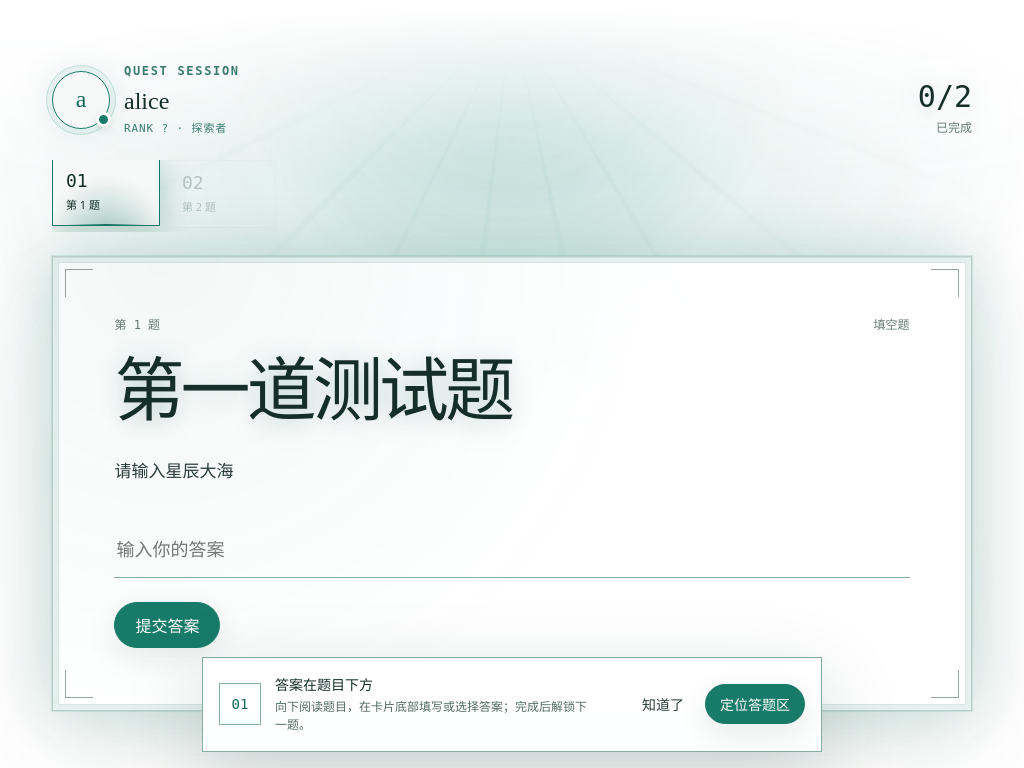
QuestSessionView › auto-advances and positions the title after an AutoPlay text clue closes
Type "星辰大海" into the field with placeholder "输入你的答案" at (512,549), box [114, 520, 910, 578]
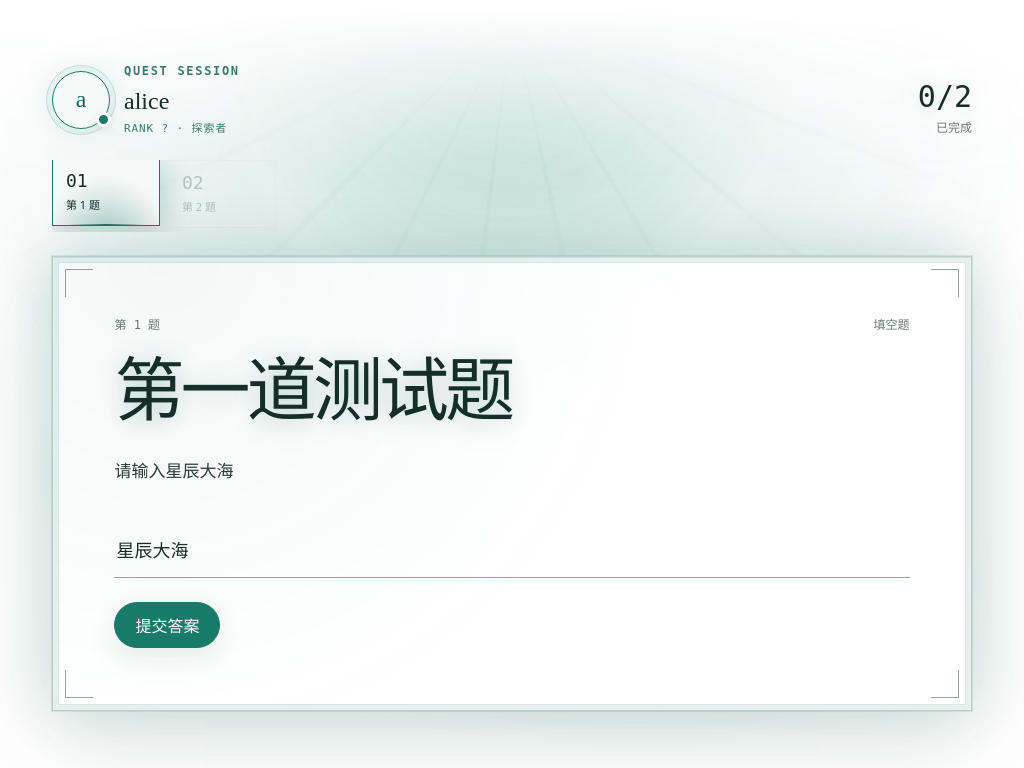
Click the button "提交答案" at (167,625), box [114, 602, 220, 648]
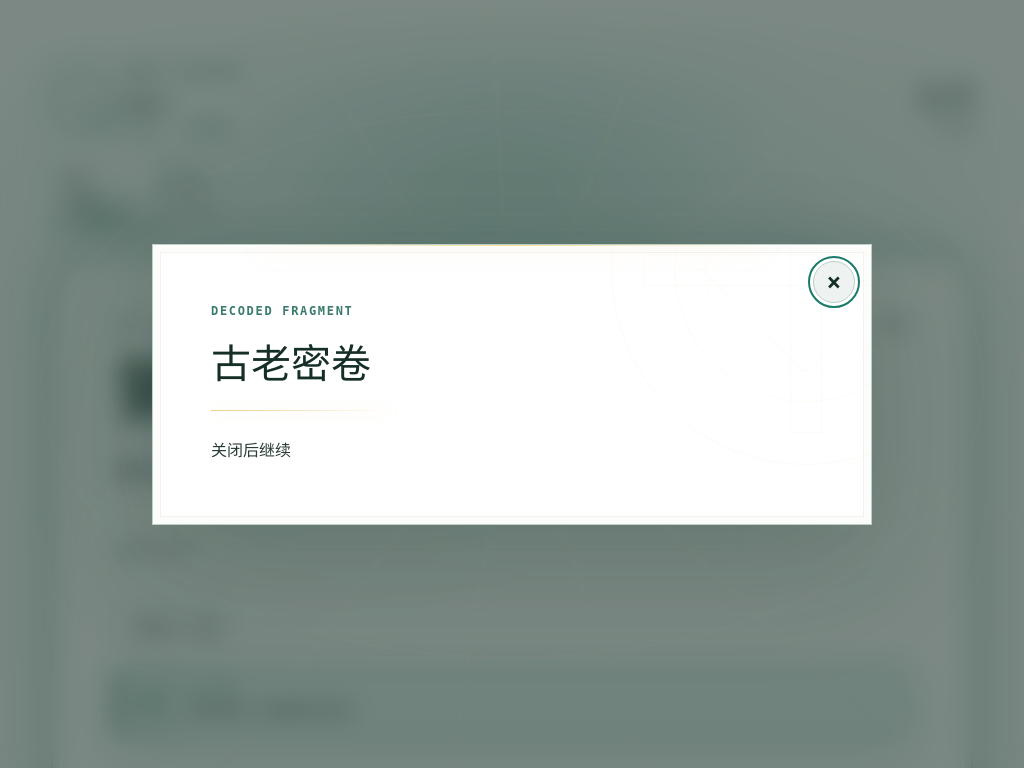
Result: the dialog "古老密卷" is shown at [152, 244, 872, 524]
Click the button named "关闭线索" at (834,282), box [813, 261, 855, 303]
Wait 100 ms
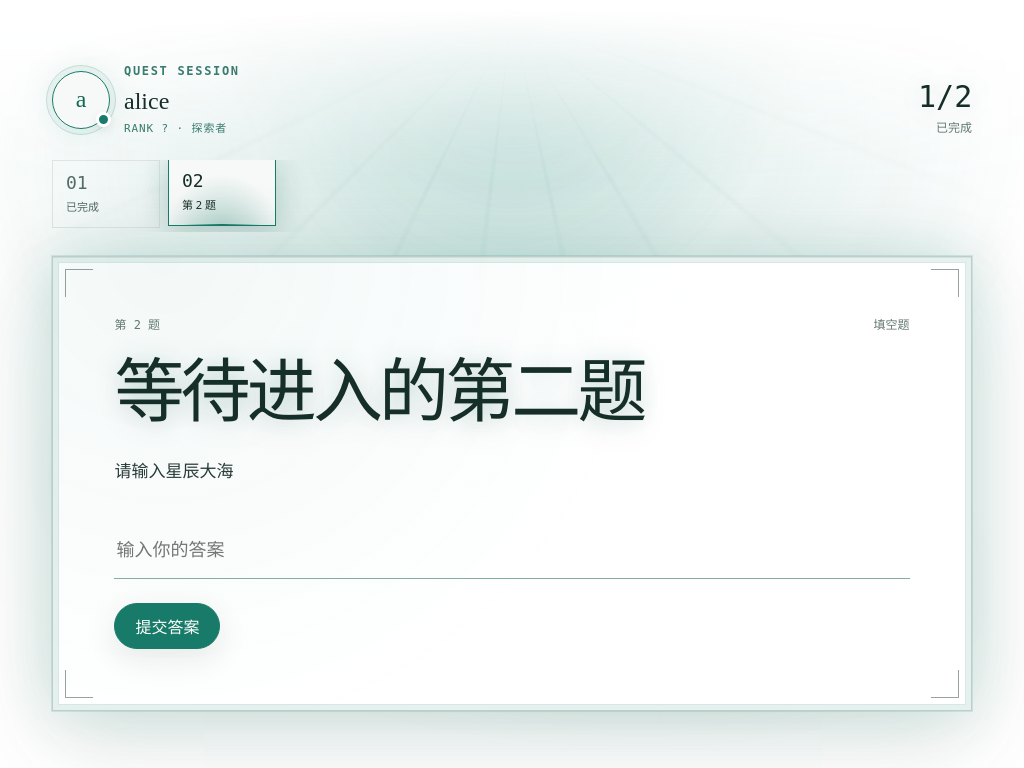
Result: the heading "等待进入的第二题" is shown at [114, 353, 644, 430]
